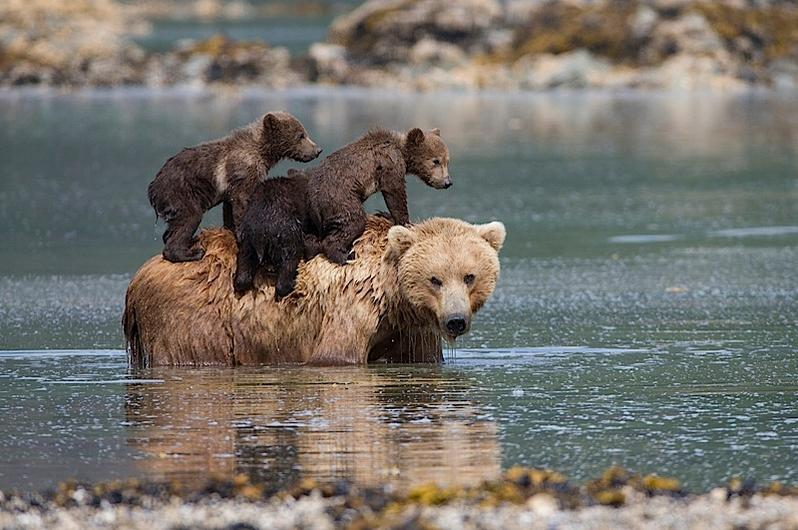bear: (382, 218, 513, 340), (401, 122, 464, 193), (257, 107, 326, 166)
